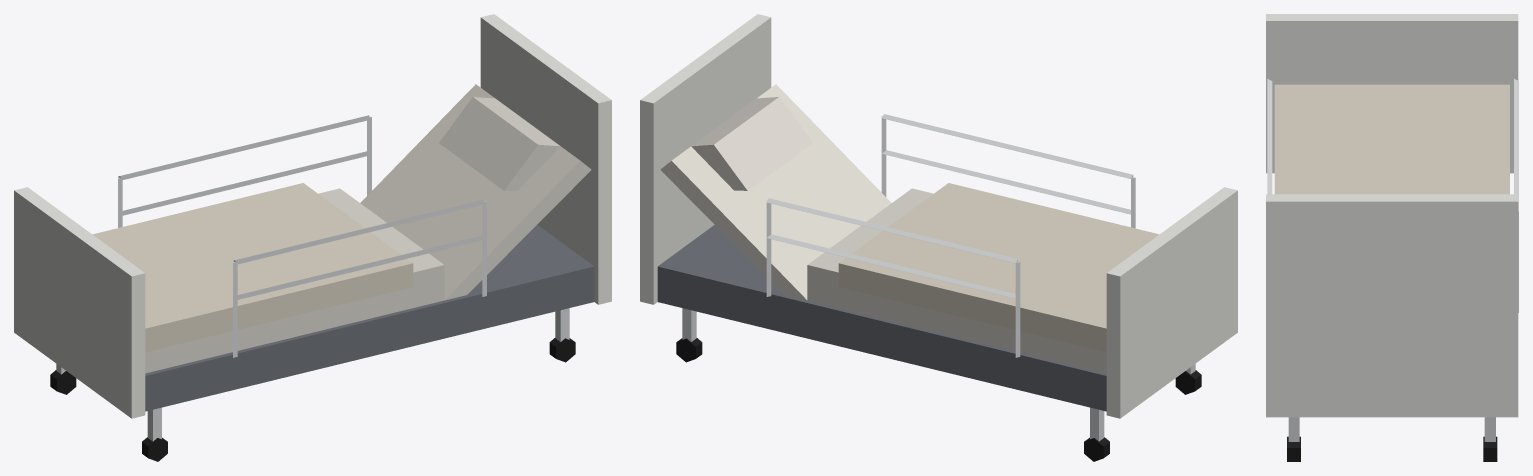
Rendered from hospital_bed.glb.
3 views of the same model, side by side, from view 1: azimuth 30°, elevation 25°; view 2: azimuth 150°, elevation 25°; view 3: azimuth 270°, elevation 25° (orthographic). The views are drawn at different scales.
Visible parts, largest first — view 1: hospital_bed; view 2: hospital_bed; view 3: hospital_bed.
Boxes of the visible parts, <box> form: hospital_bed: <box>14,14,611,461</box>; hospital_bed: <box>640,14,1237,461</box>; hospital_bed: <box>1266,14,1518,461</box>.
Size of the model in its own units: 2.12 by 1.1 by 0.902.
1 material, 1 textured.
